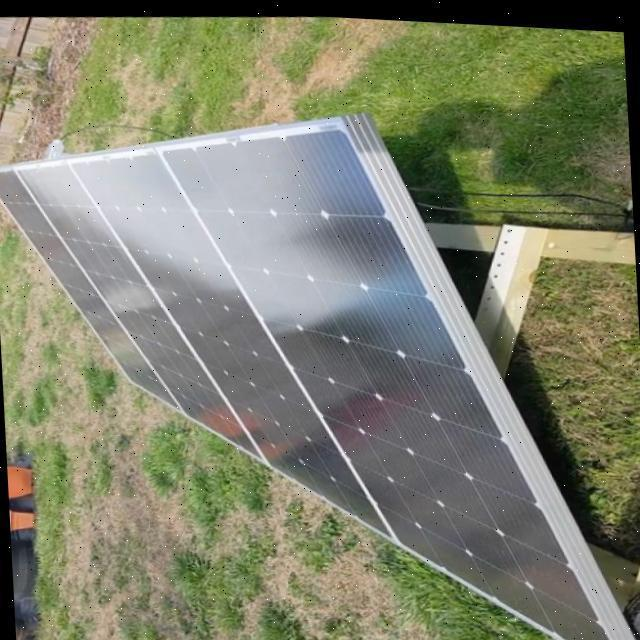Normal Solar Panel: (0, 85, 619, 640)
